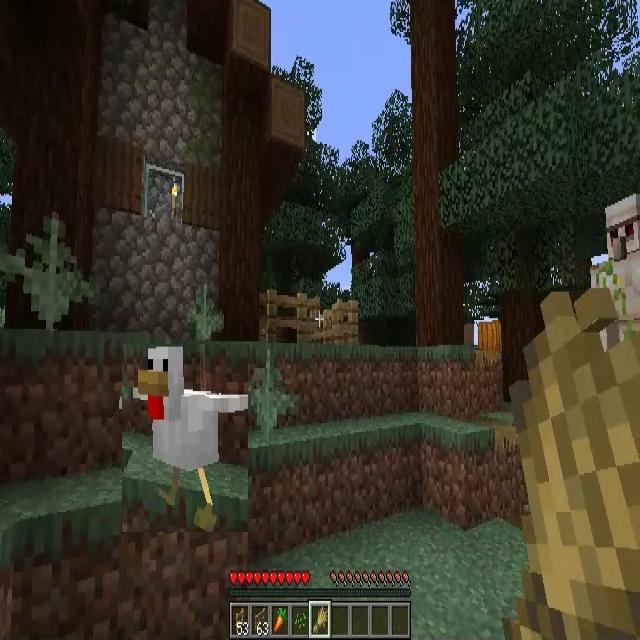duck: (122, 344, 248, 532)
people: (603, 192, 640, 352)
